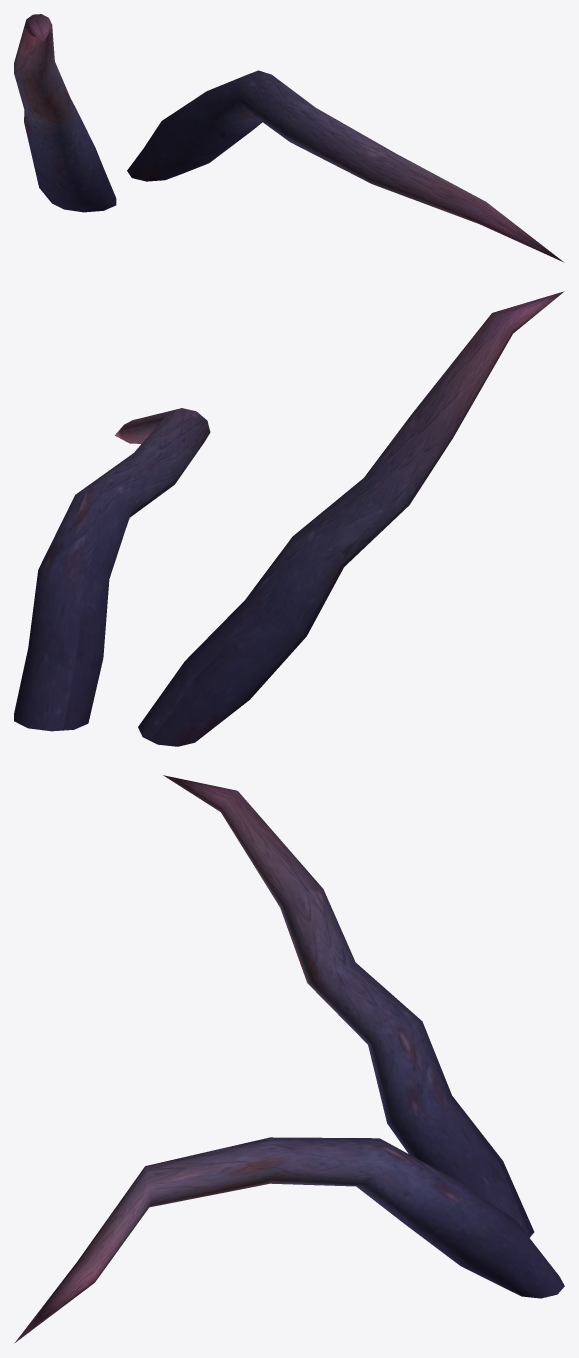
The model's file is desert_Monsterleg01.FBX.
The picture shows the model from 3 angles, top to bottom: view 1: azimuth 30°, elevation 25°; view 2: azimuth 150°, elevation 25°; view 3: azimuth 270°, elevation 25°; orthographic projection. The views are drawn at different scales.
Parts seen in each view (by area): view 1: Cylinder042; view 2: Cylinder042; view 3: Cylinder042.
Boxes of the visible parts, left/top/right/bottom form: Cylinder042: left=14, top=14, right=564, bottom=262; Cylinder042: left=14, top=291, right=564, bottom=746; Cylinder042: left=14, top=775, right=564, bottom=1343.
Bounding box in the file's own units: 29.06 × 19.28 × 27.12.
